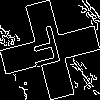F: (25, 25, 67, 77)
